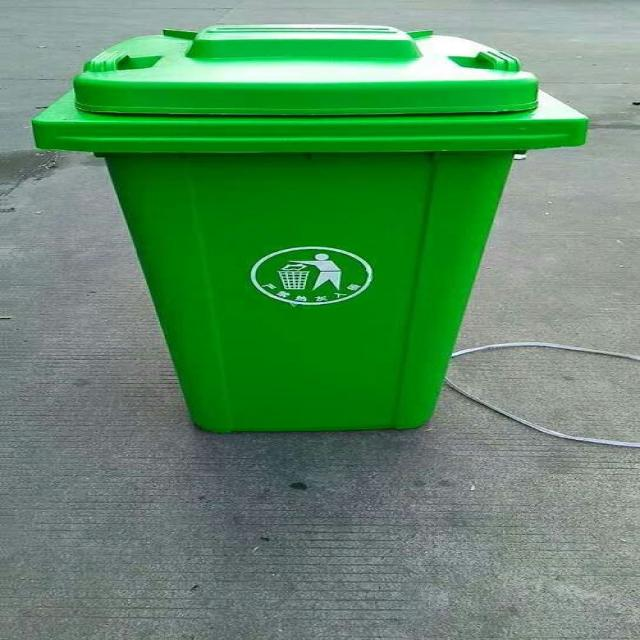garbage_bin: (30, 23, 588, 430)
